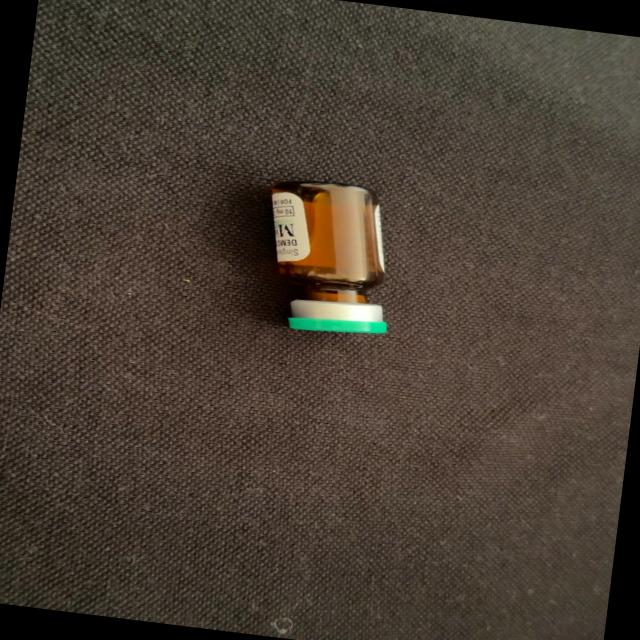midazolm: (255, 177, 400, 338)
